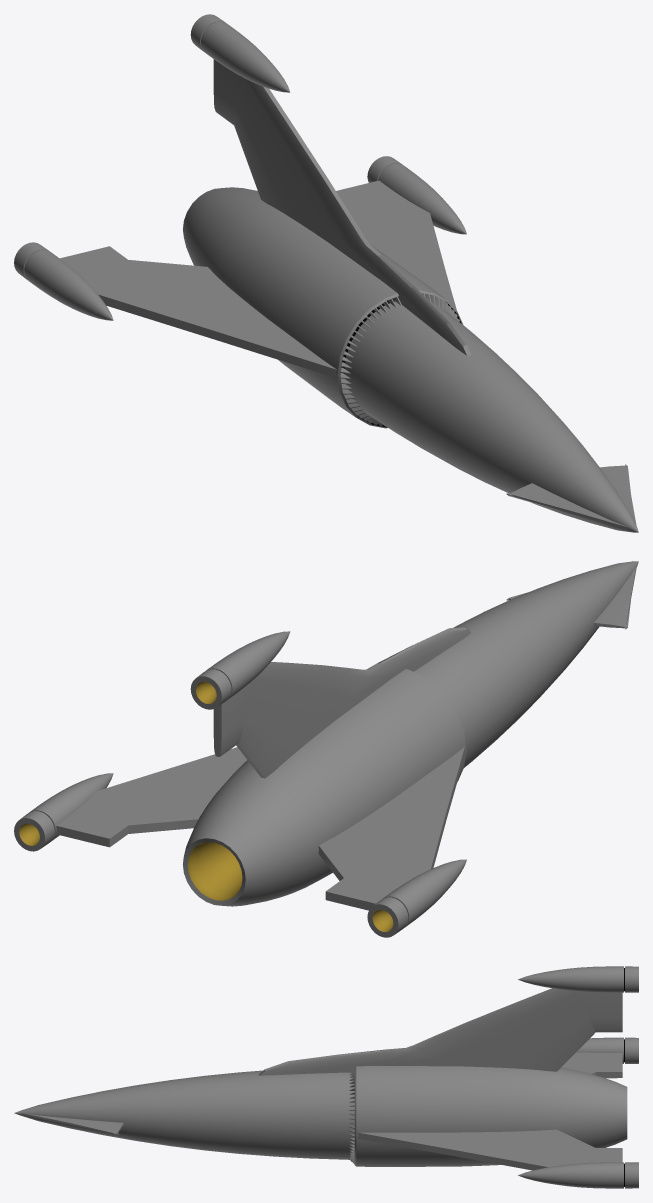
The model's file is Venus Rocket.obj.
The picture shows the model from 3 angles, top to bottom: view 1: azimuth 30°, elevation 25°; view 2: azimuth 150°, elevation 25°; view 3: azimuth 270°, elevation 25°; orthographic projection. The views are drawn at different scales.
Visible parts, largest first — view 1: hull_silver, intake_strakes; view 2: hull_silver, rocket_bell; view 3: hull_silver, intake_strakes.
Part boxes in pixels (box(x1,y1,x2,y2)): hull_silver: box(14, 14, 638, 532); intake_strakes: box(340, 293, 459, 426); hull_silver: box(14, 561, 638, 937); rocket_bell: box(19, 681, 393, 932); hull_silver: box(14, 966, 638, 1188); intake_strakes: box(349, 1069, 354, 1163).
Bounding box in the file's own units: 76.36 × 51.07 × 149.
